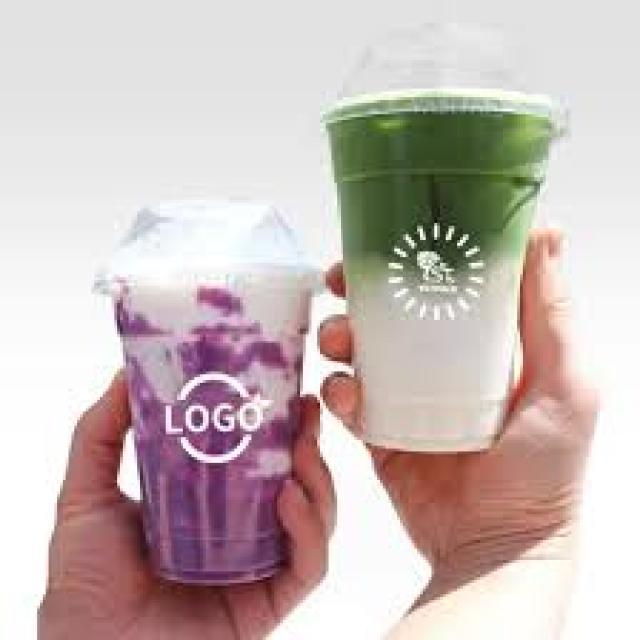cup: (324, 89, 555, 451), (111, 206, 312, 584)
